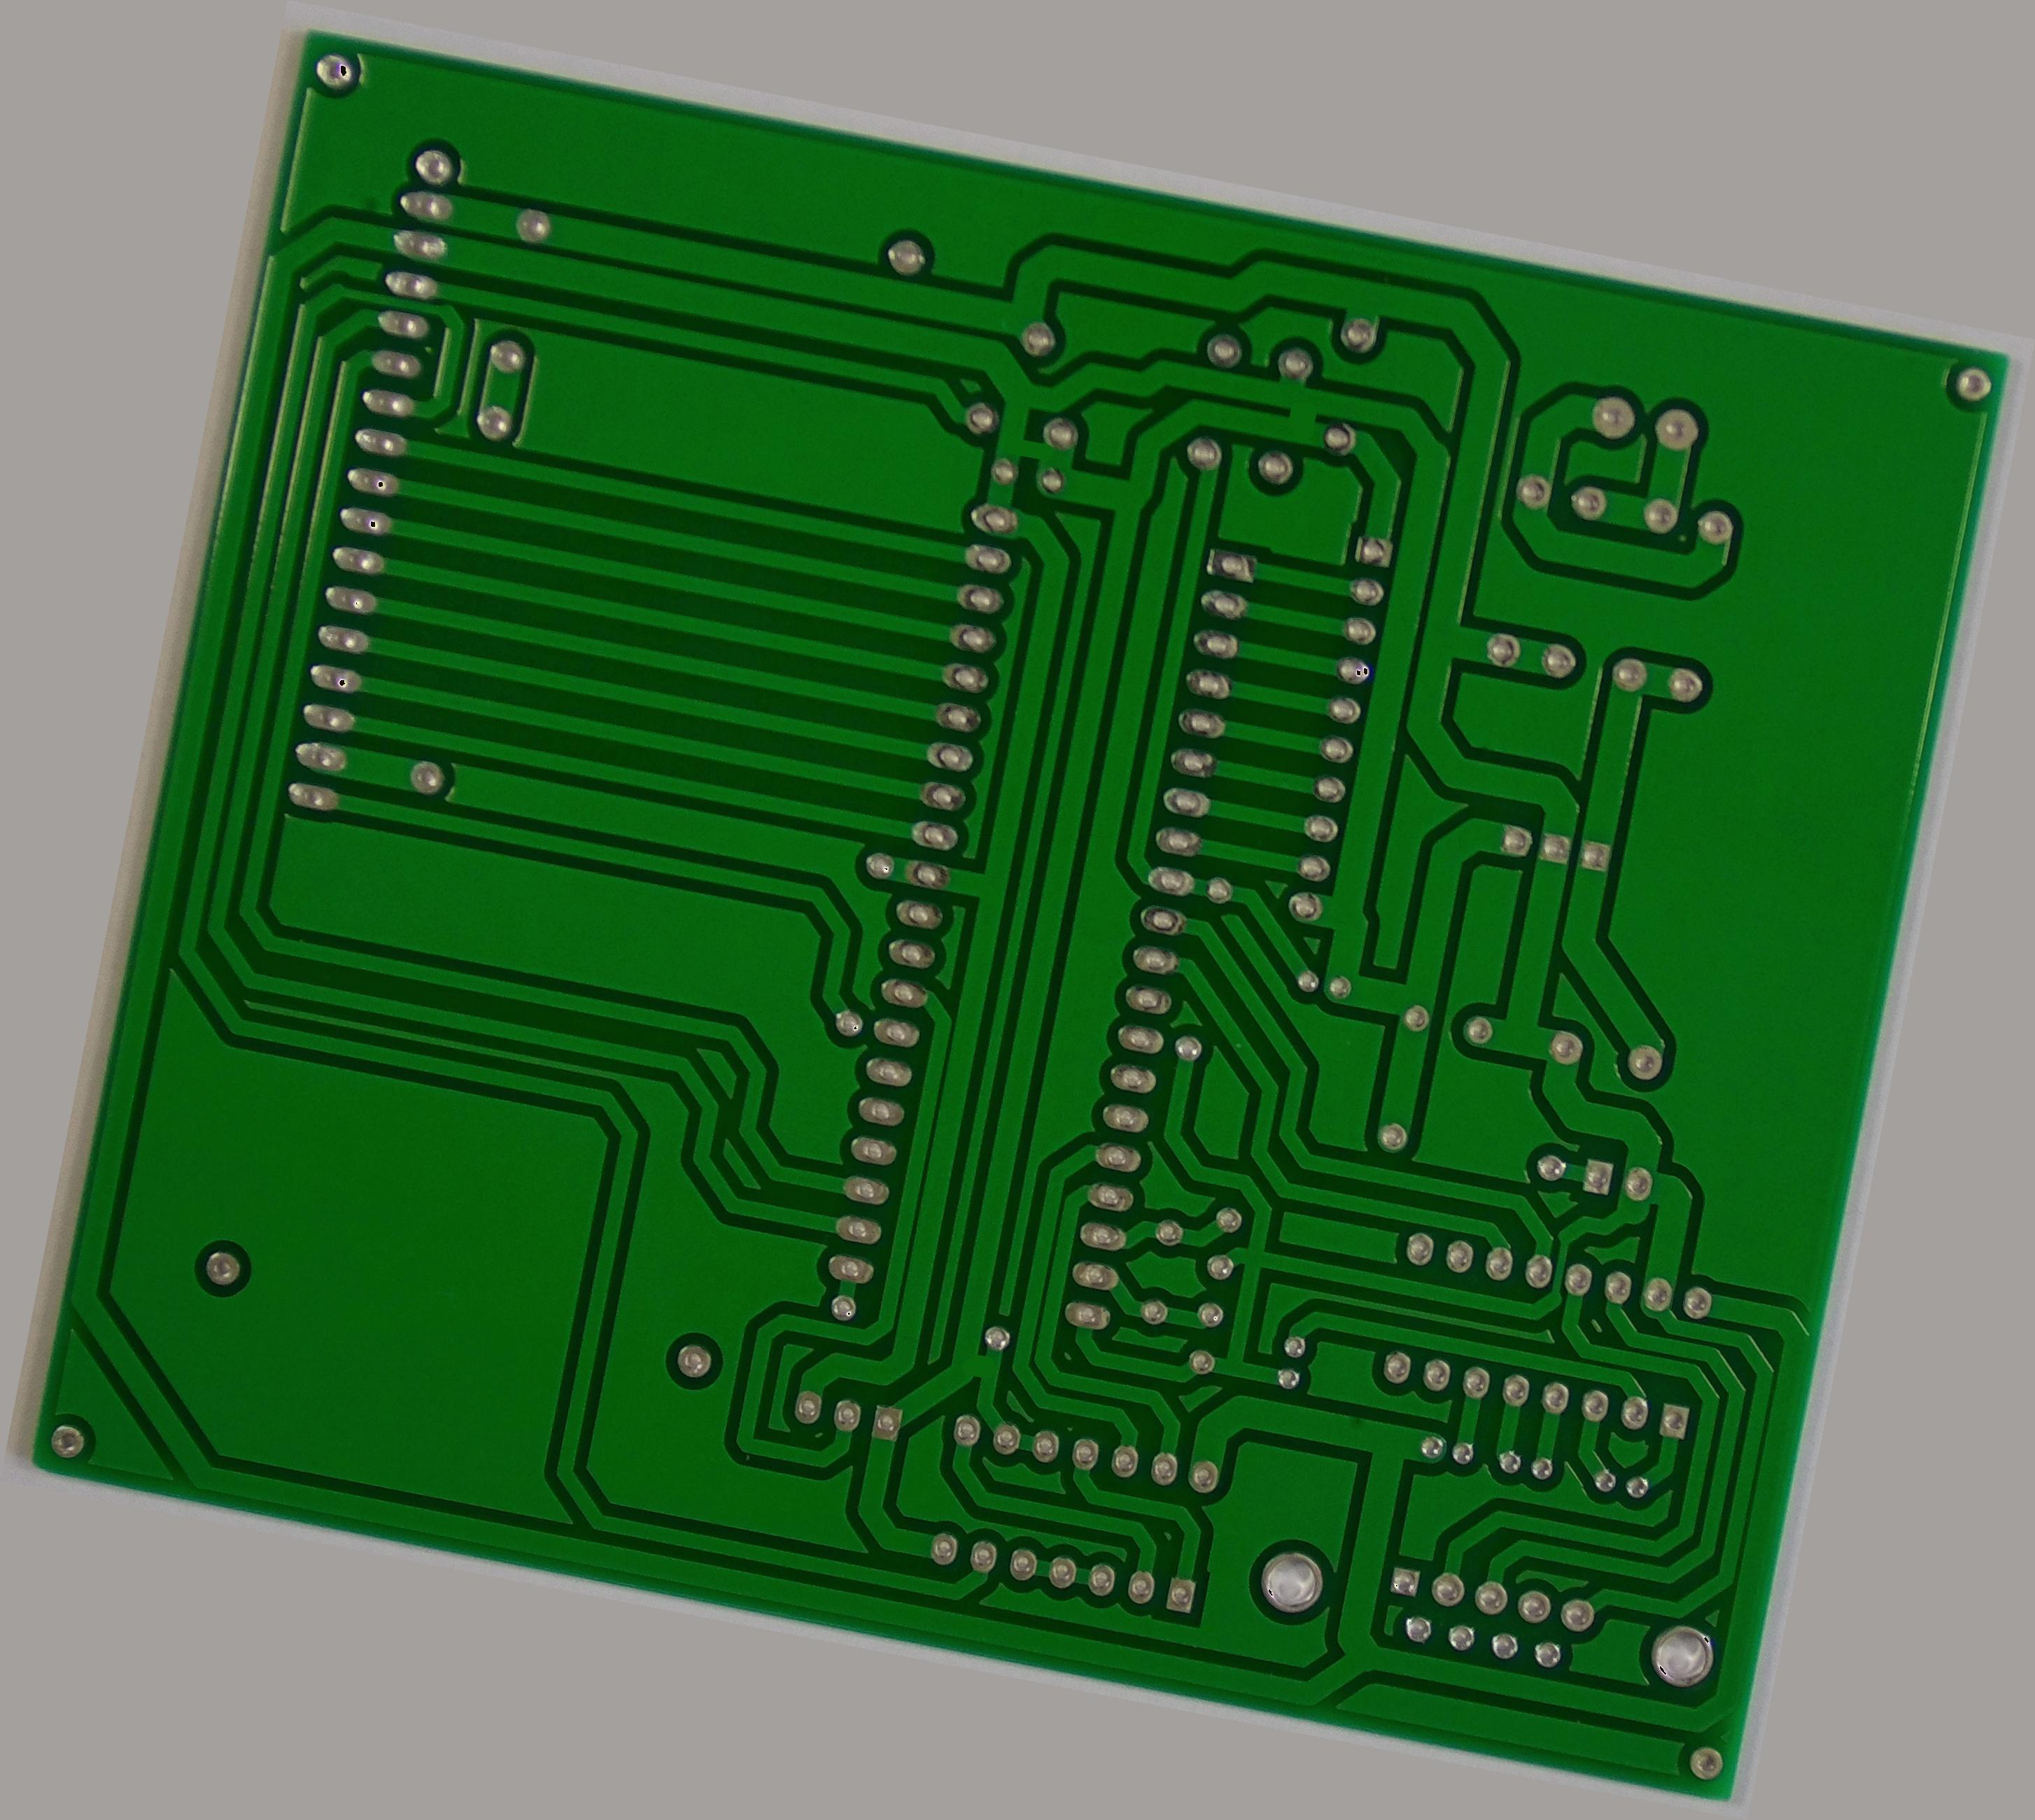short: (993, 418, 1068, 481), (1269, 385, 1337, 450)
